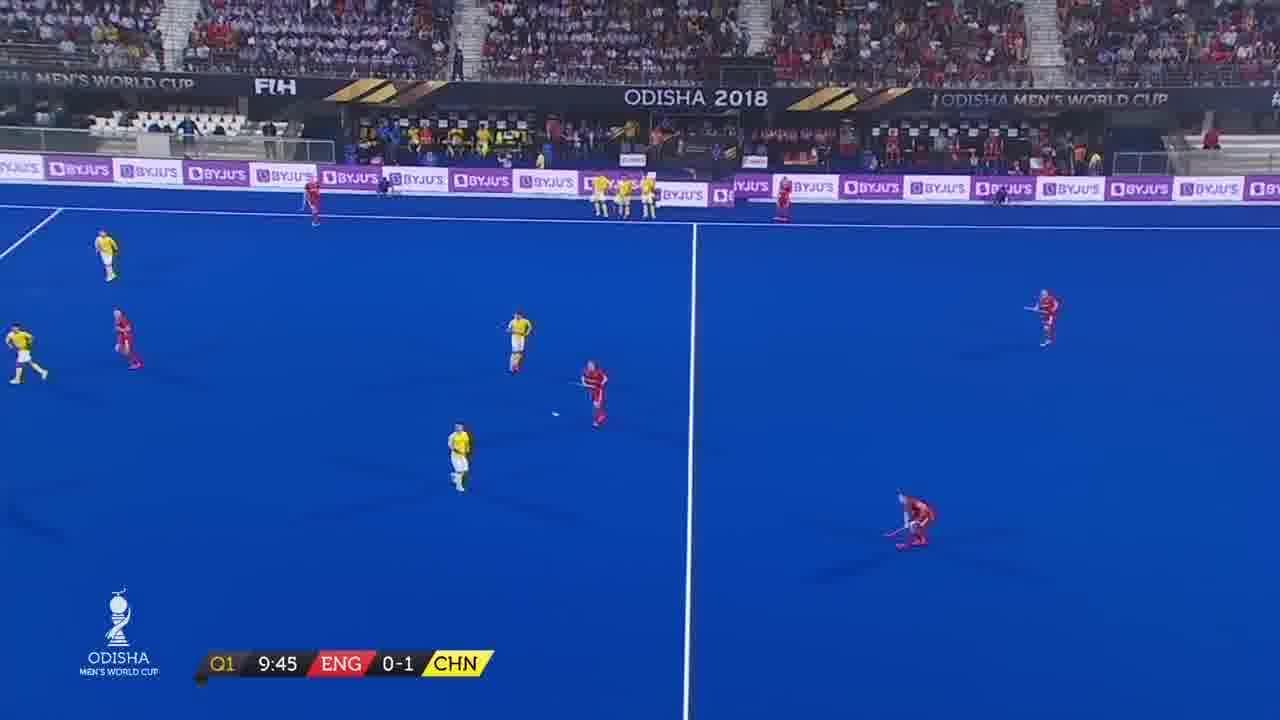ball: (546, 401, 562, 423)
